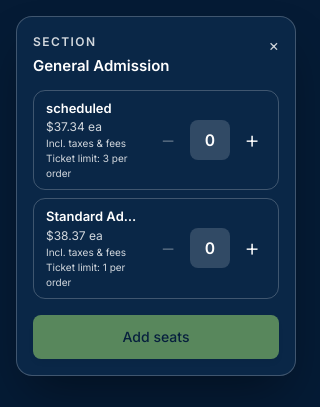
Test: SeatmapTooltip GA stepper › disables Add seats while every multi-offer GA quantity is 0
The image size is (320, 407).
Expected: the button "Add seats" is disabled, [33,314,279,358]
Click the button named "increase quantity" at (252, 140), box [238,120,266,160]
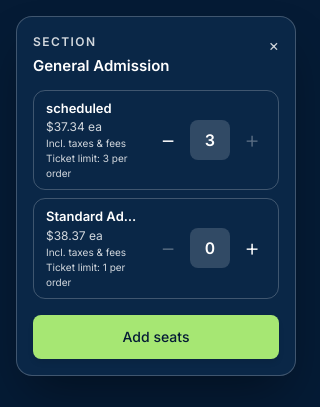
Now the button "Add seats" is enabled, box [33,314,279,358]
Click the button named "decrease quantity" at (168, 140), box [154,120,182,160]
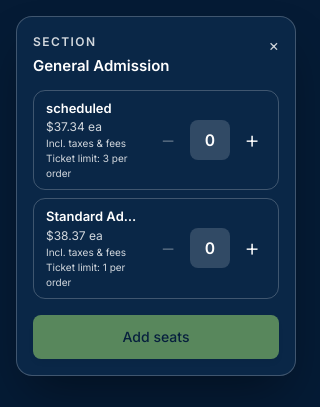
Now the button "Add seats" is disabled, box [33,314,279,358]
